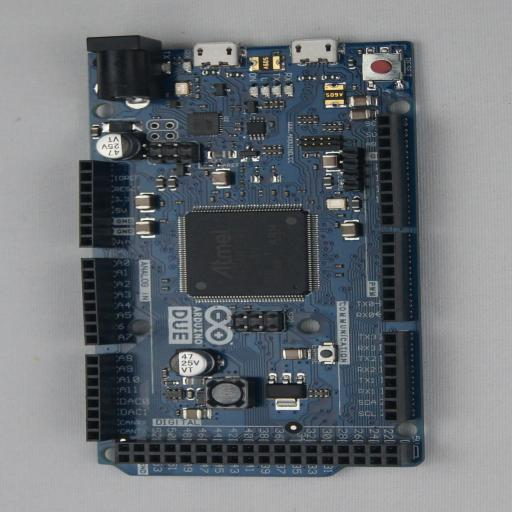Arduino Due: (79, 35, 426, 477)
